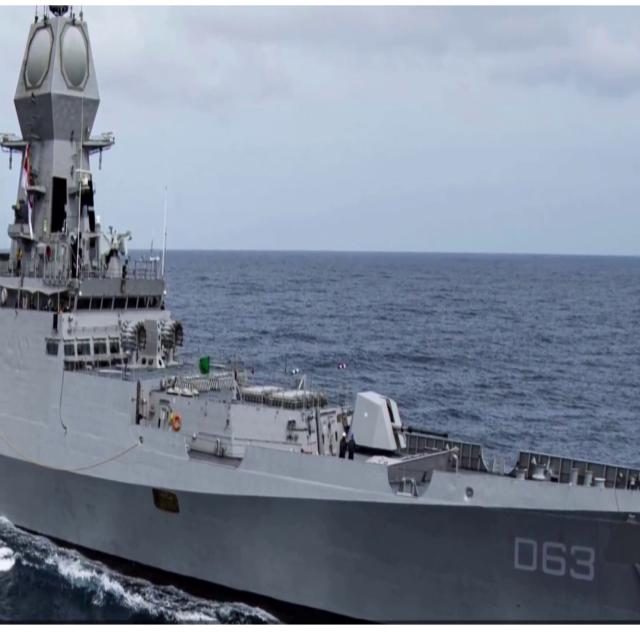OCR: (511, 529, 596, 590)
